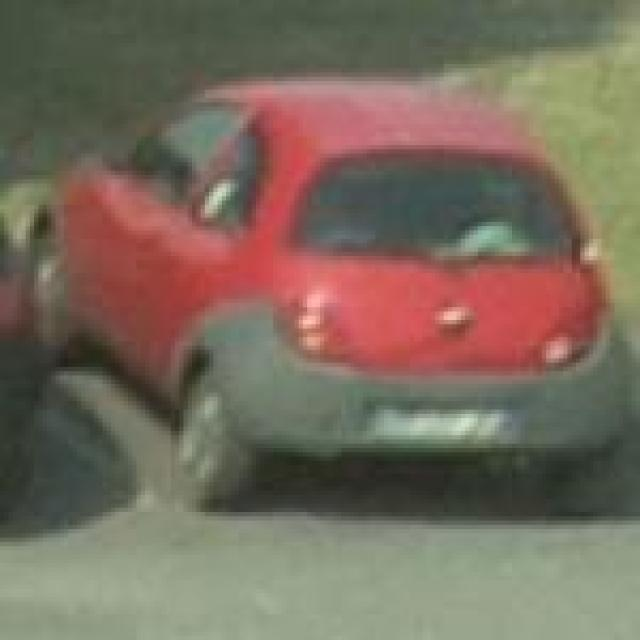cars-sUYr: (43, 34, 640, 528)
